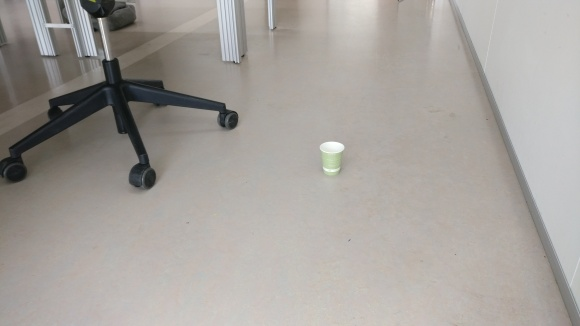cup: (318, 140, 346, 176)
